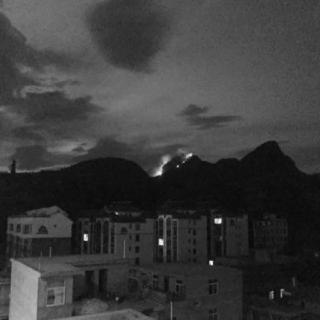Fire: (177, 144, 194, 162)
other: (82, 228, 92, 244), (205, 258, 217, 266), (213, 216, 224, 224), (156, 235, 163, 247)
